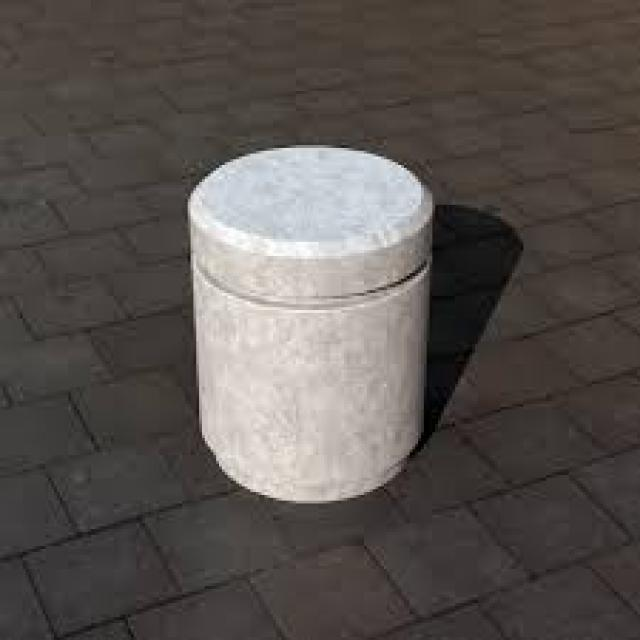bollard: (180, 126, 433, 500)
